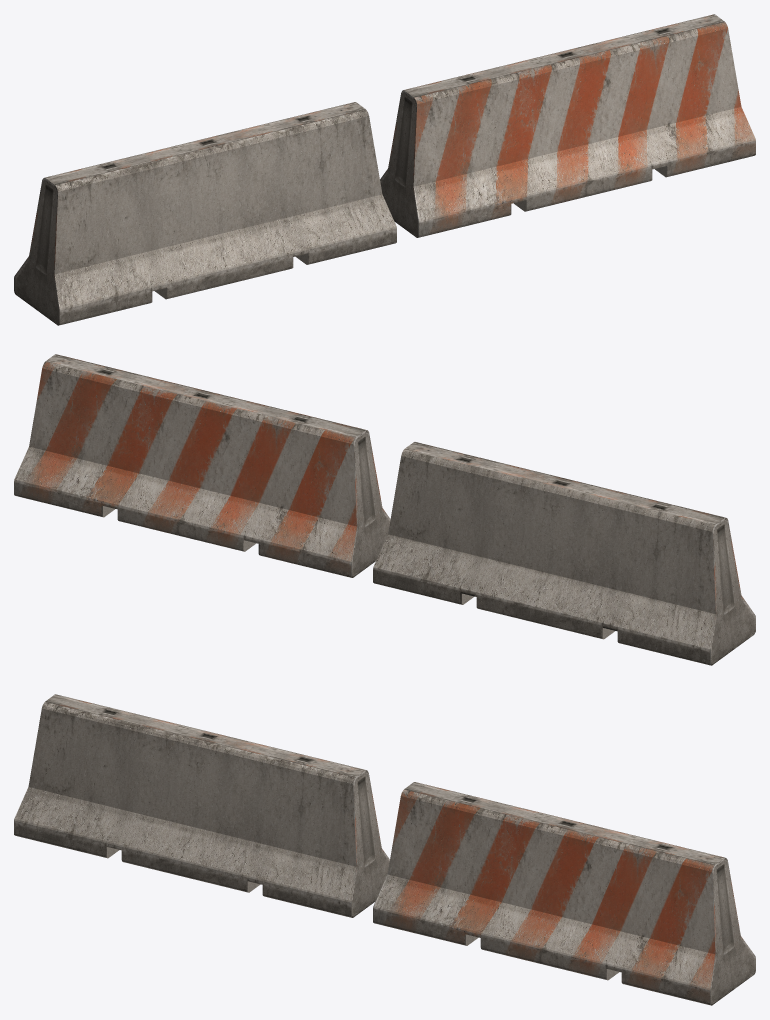
File: simple_jersey_barrier.glb
3 views of the same model, one above another, from view 1: azimuth 30°, elevation 25°; view 2: azimuth 150°, elevation 25°; view 3: azimuth 330°, elevation 25° (orthographic).
Parts seen in each view (by area): view 1: Jersey barrier 1, Jersey barrier 2; view 2: Jersey barrier 1, Jersey barrier 2; view 3: Jersey barrier 2, Jersey barrier 1.
Part boxes in pixels (x1,y1,x2,y2): Jersey barrier 1: (14, 102, 396, 325); Jersey barrier 2: (380, 14, 755, 237); Jersey barrier 1: (373, 442, 755, 665); Jersey barrier 2: (14, 354, 390, 577); Jersey barrier 2: (373, 782, 755, 1005); Jersey barrier 1: (14, 694, 389, 917).
Bounding box in the file's own units: 45.92 × 7.91 × 5.22.
1 material, 1 textured.
